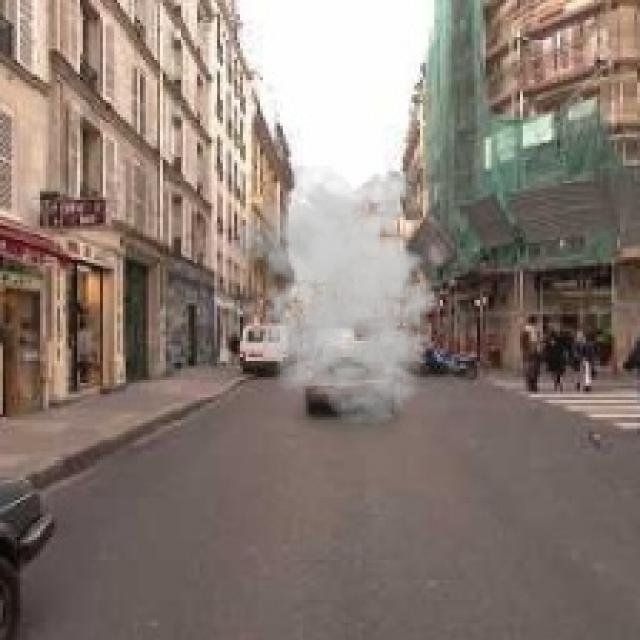smoke: (234, 166, 457, 426)
